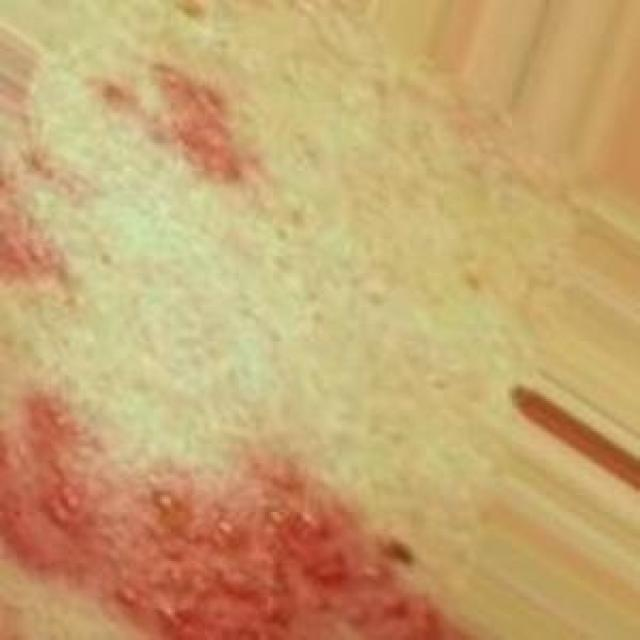Shingles: (0, 385, 440, 640), (105, 65, 261, 196), (0, 153, 76, 301)
